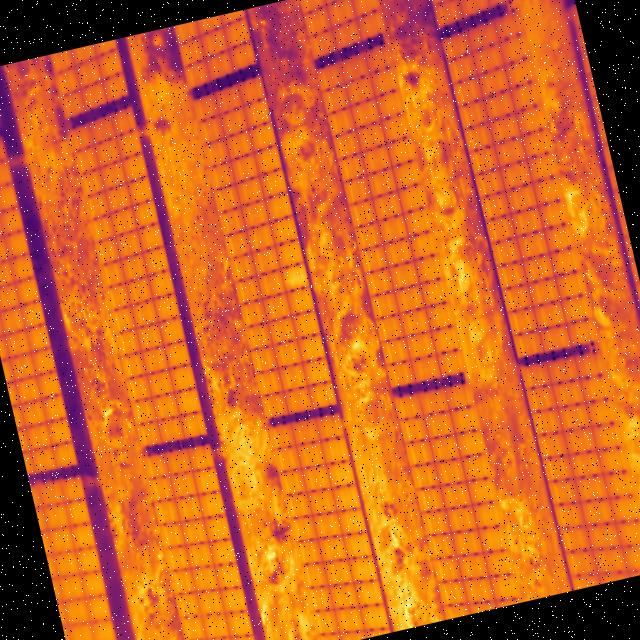Hotspot: (282, 262, 310, 292)
